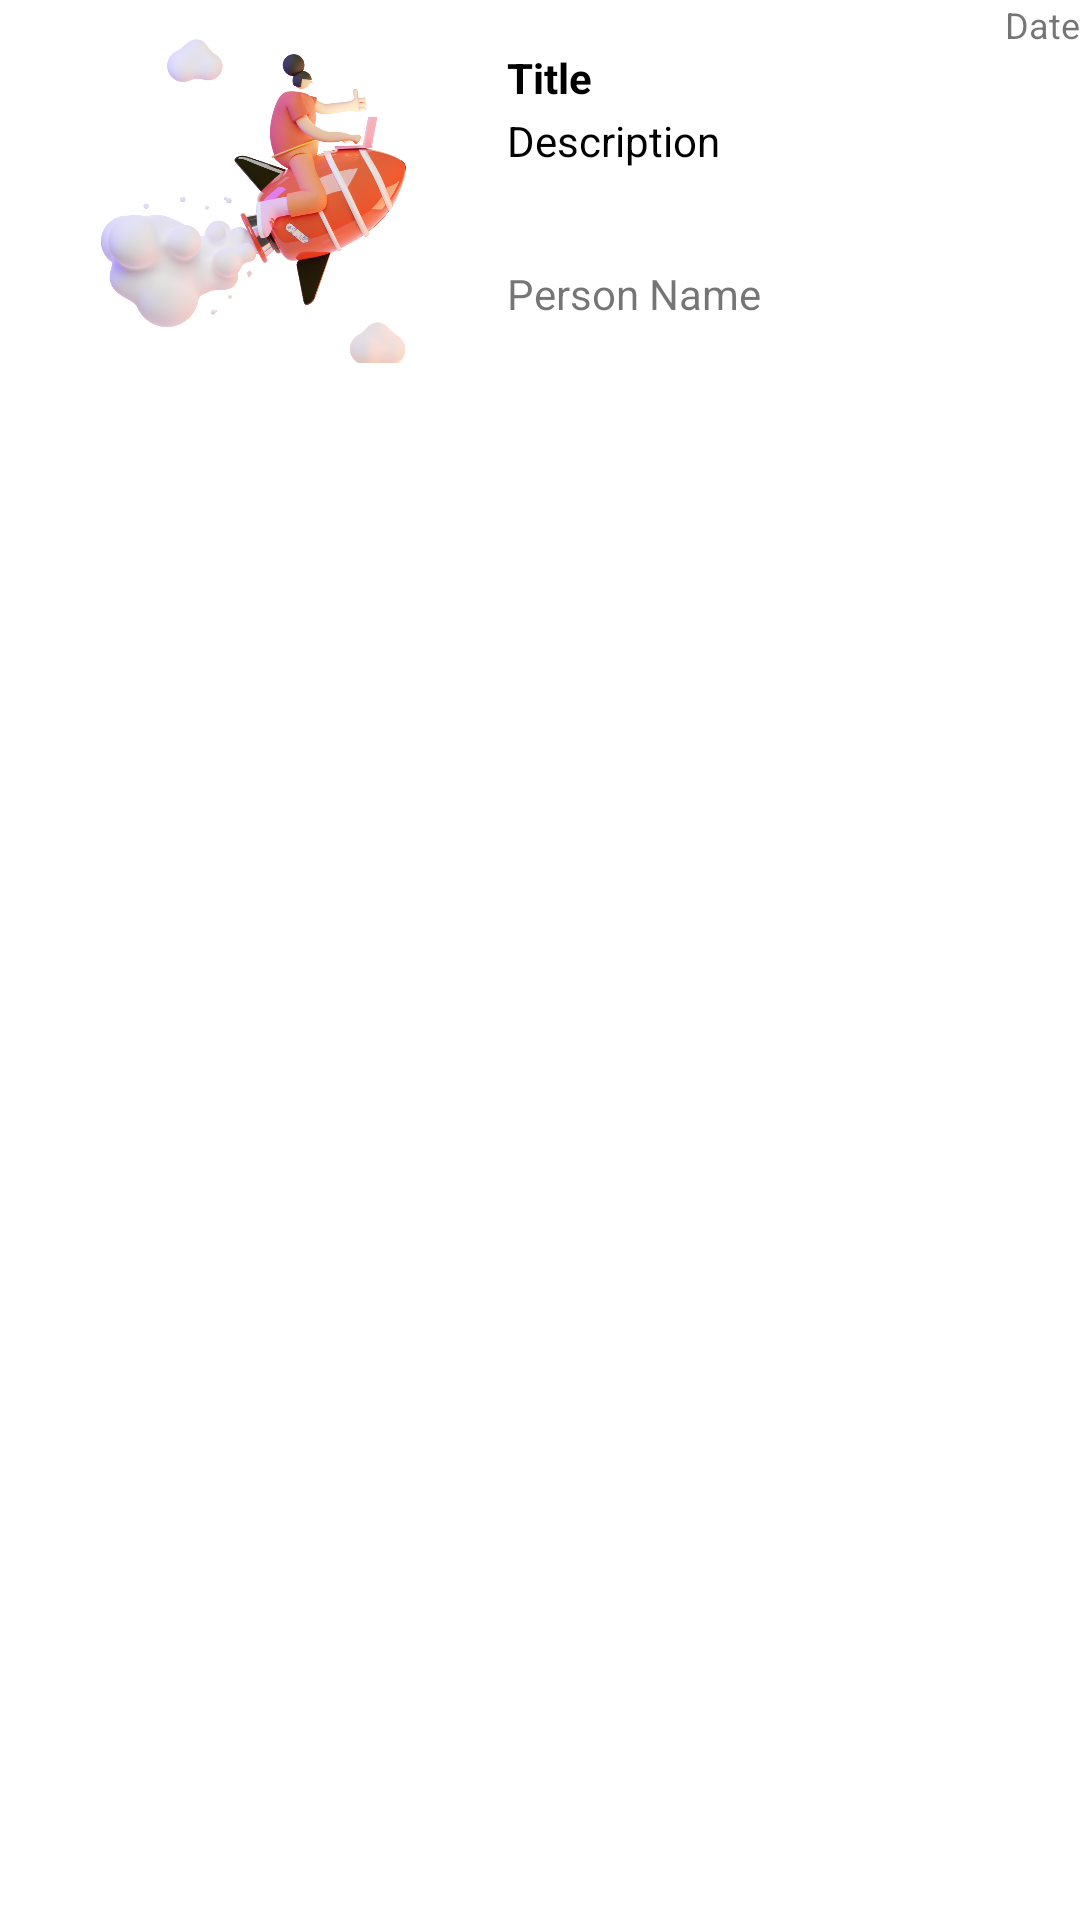

Icon click points for this 1080×1920 phone screenshot, format [x,y]:
login screen illustration: [253,201]
